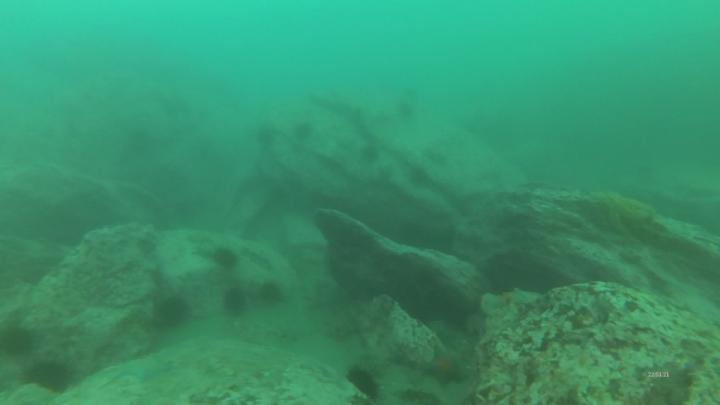echinus: (23, 358, 72, 395), (1, 322, 39, 363), (154, 293, 193, 331), (345, 366, 384, 403), (222, 285, 251, 319), (256, 280, 287, 309), (252, 123, 281, 153), (213, 245, 241, 272), (357, 140, 384, 166), (407, 165, 434, 189), (291, 121, 316, 145)
holothurian: (238, 244, 277, 273), (391, 387, 445, 405)
starfish: (419, 346, 472, 387)
